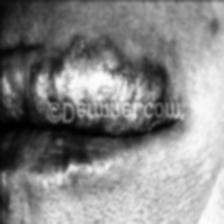Toxin: (97, 38, 126, 72), (96, 82, 118, 96)
